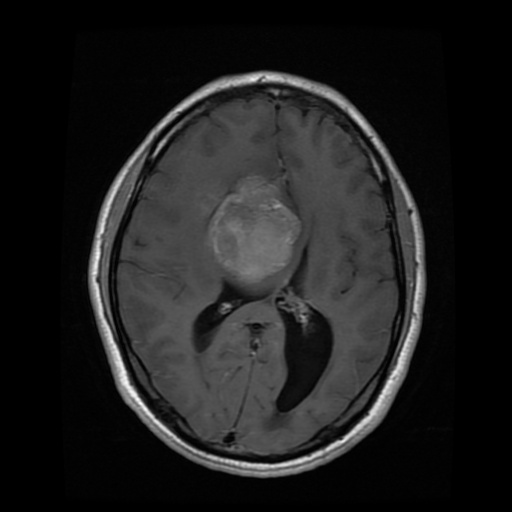meningioma: (206, 172, 302, 285)
